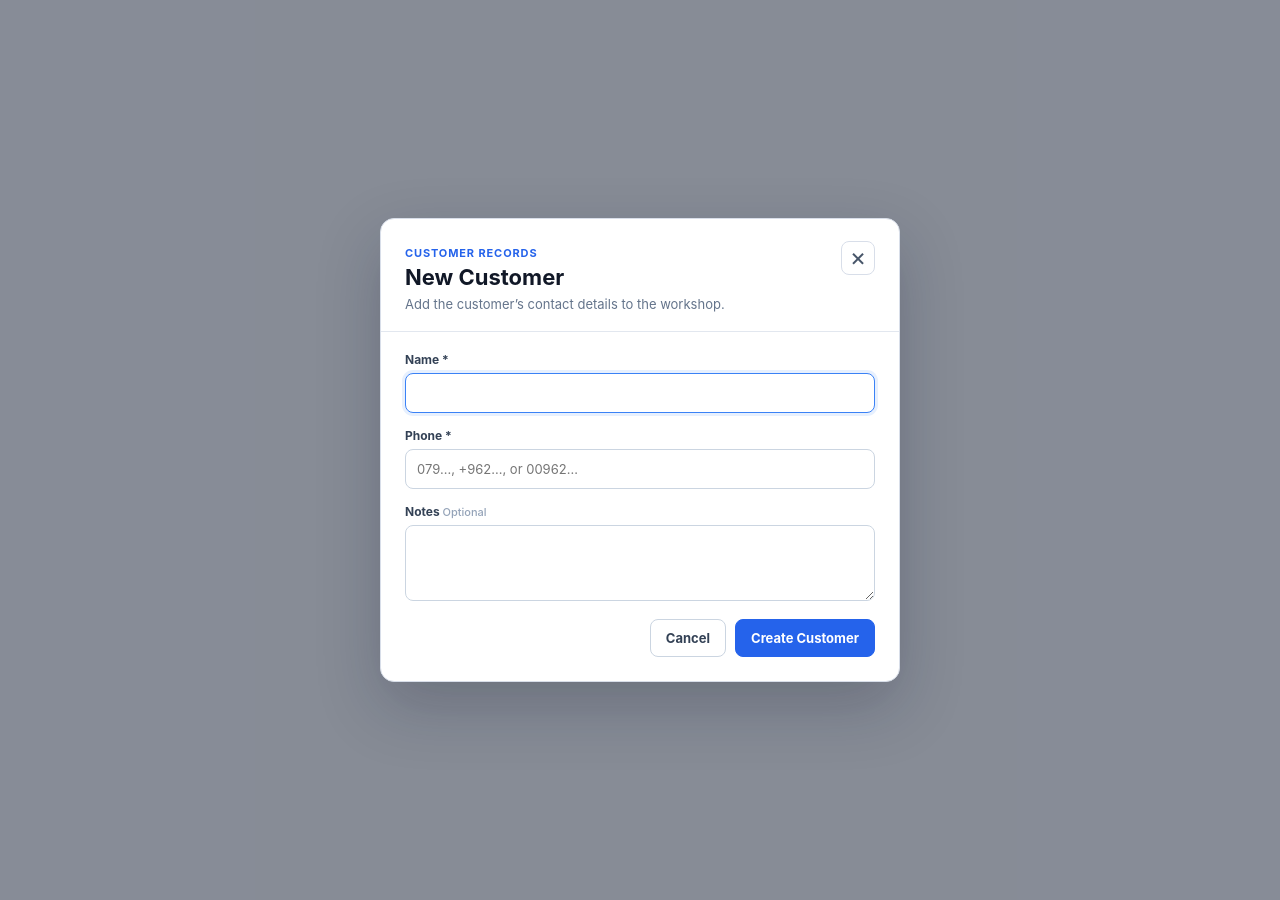
Test: NewCustomerDialog › shows safe databaseError feedback
Type "Ahmad Ali" into the field labelled "Name" at (640, 393), box [405, 373, 875, 413]
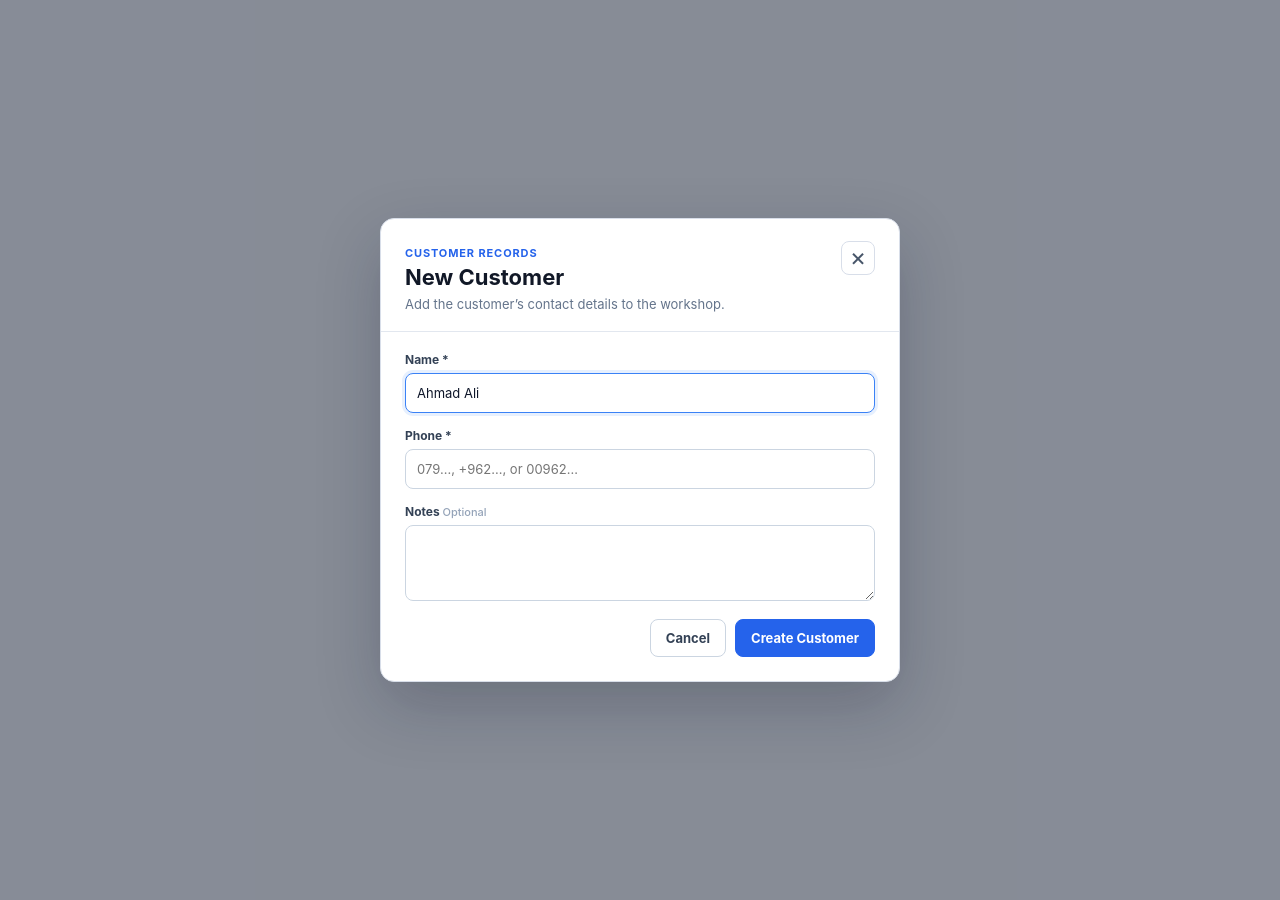
Type "0791234567" into the field labelled "Phone" at (640, 469), box [405, 449, 875, 489]
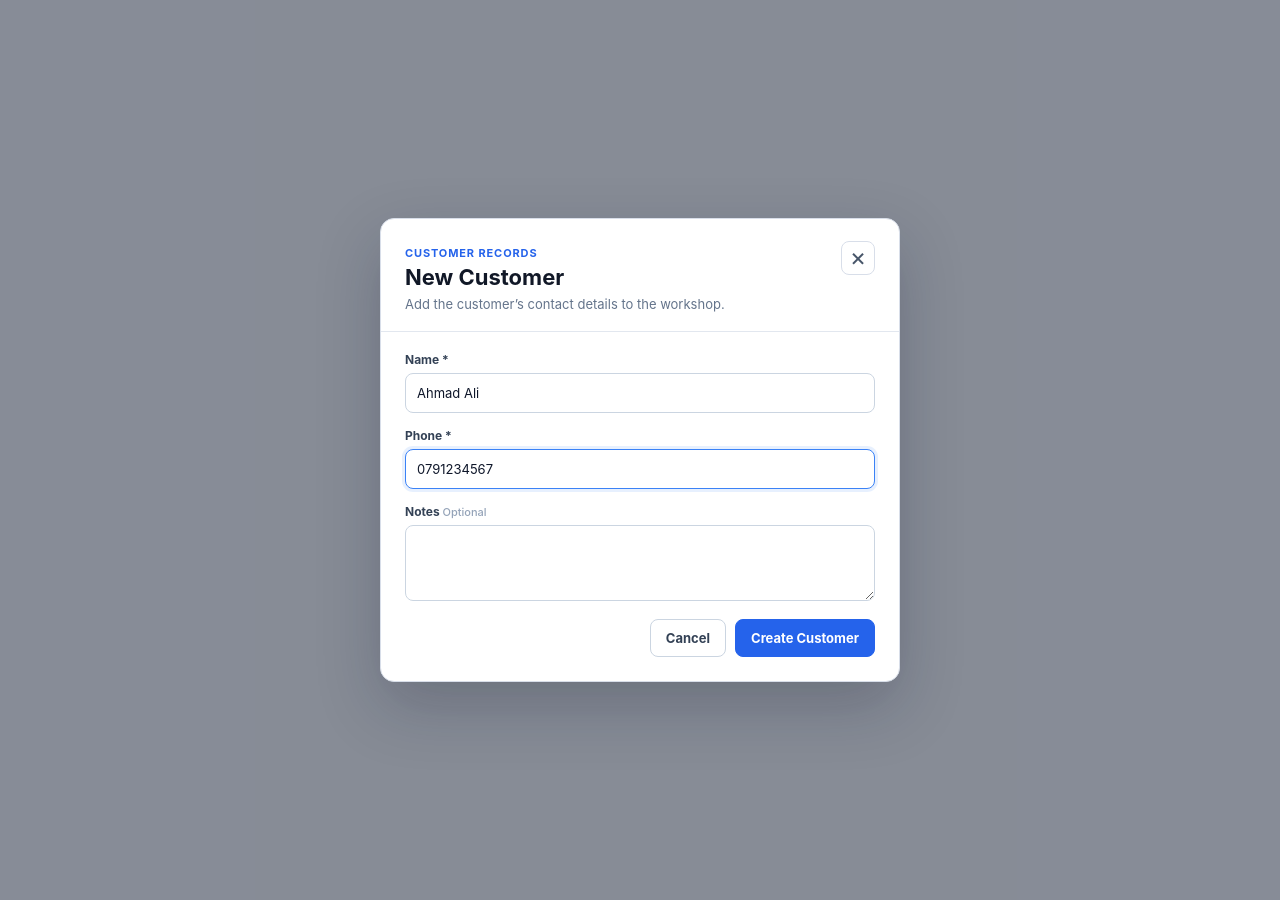
Click the button "Create Customer" at (805, 638), box [735, 619, 875, 657]
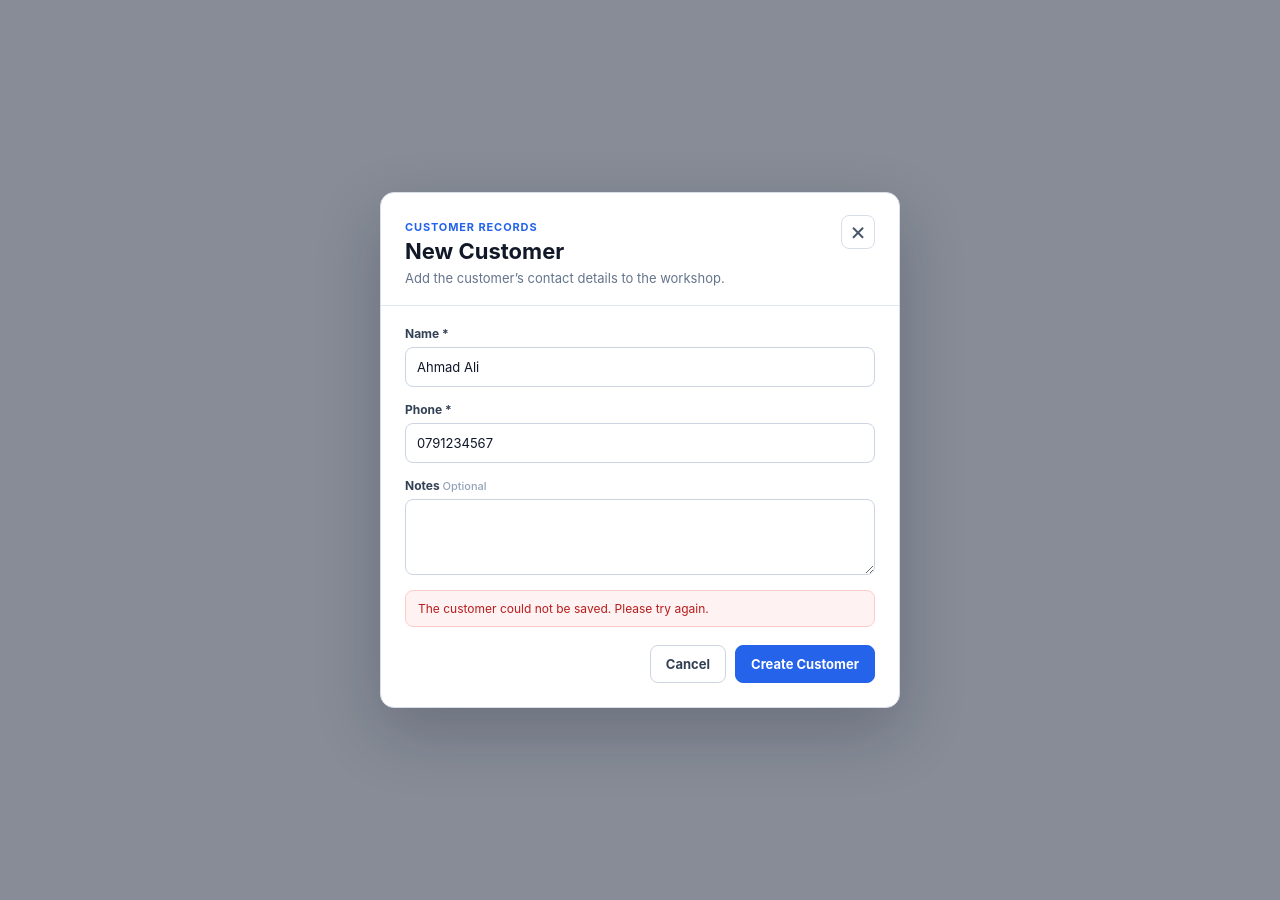
Result: the text "The customer could not be saved. Please try again." is shown at [405, 590, 875, 627]
